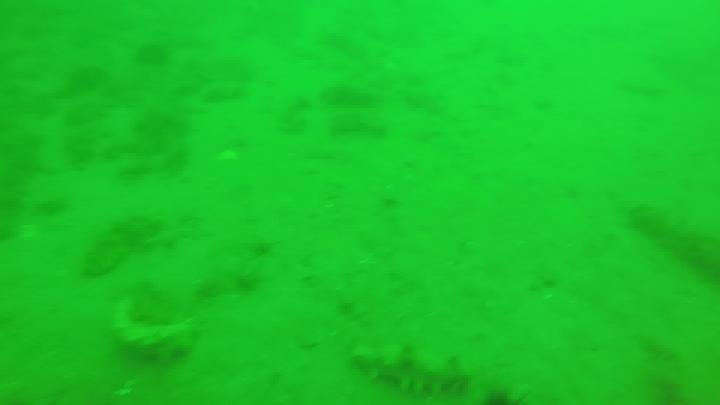holothurian: (358, 344, 469, 405), (630, 203, 720, 275), (103, 298, 194, 359)
